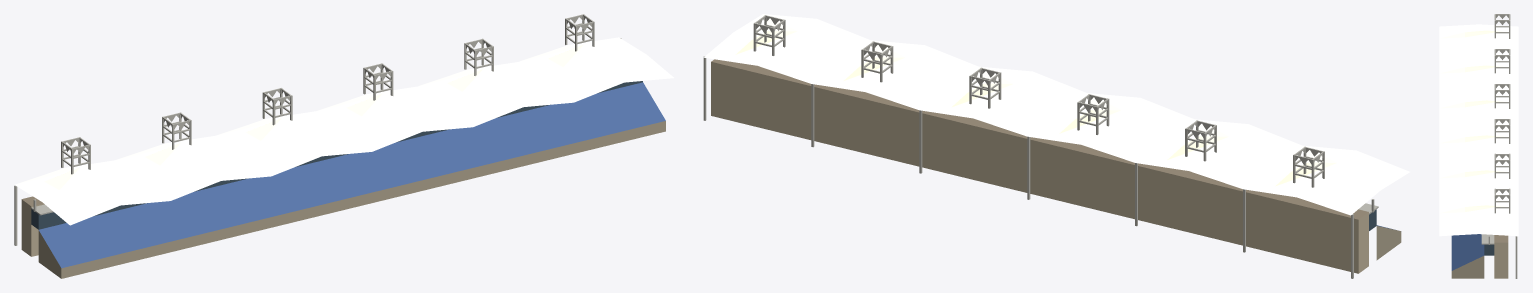
The model's file is batelco_stand.glb.
3 renders of one model, left to right at view 1: azimuth 30°, elevation 25°; view 2: azimuth 150°, elevation 25°; view 3: azimuth 270°, elevation 25°, orthographic. The views are drawn at different scales.
Parts seen in each view (by area): view 1: chunk_0_0; view 2: chunk_0_0; view 3: chunk_0_0.
Part boxes in pixels (x1=…): chunk_0_0: x1=14, y1=14, x2=673, y2=278; chunk_0_0: x1=703, y1=14, x2=1409, y2=278; chunk_0_0: x1=1439, y1=14, x2=1518, y2=278.
Size of the model in its own units: 245 by 37.5 by 38.9.
